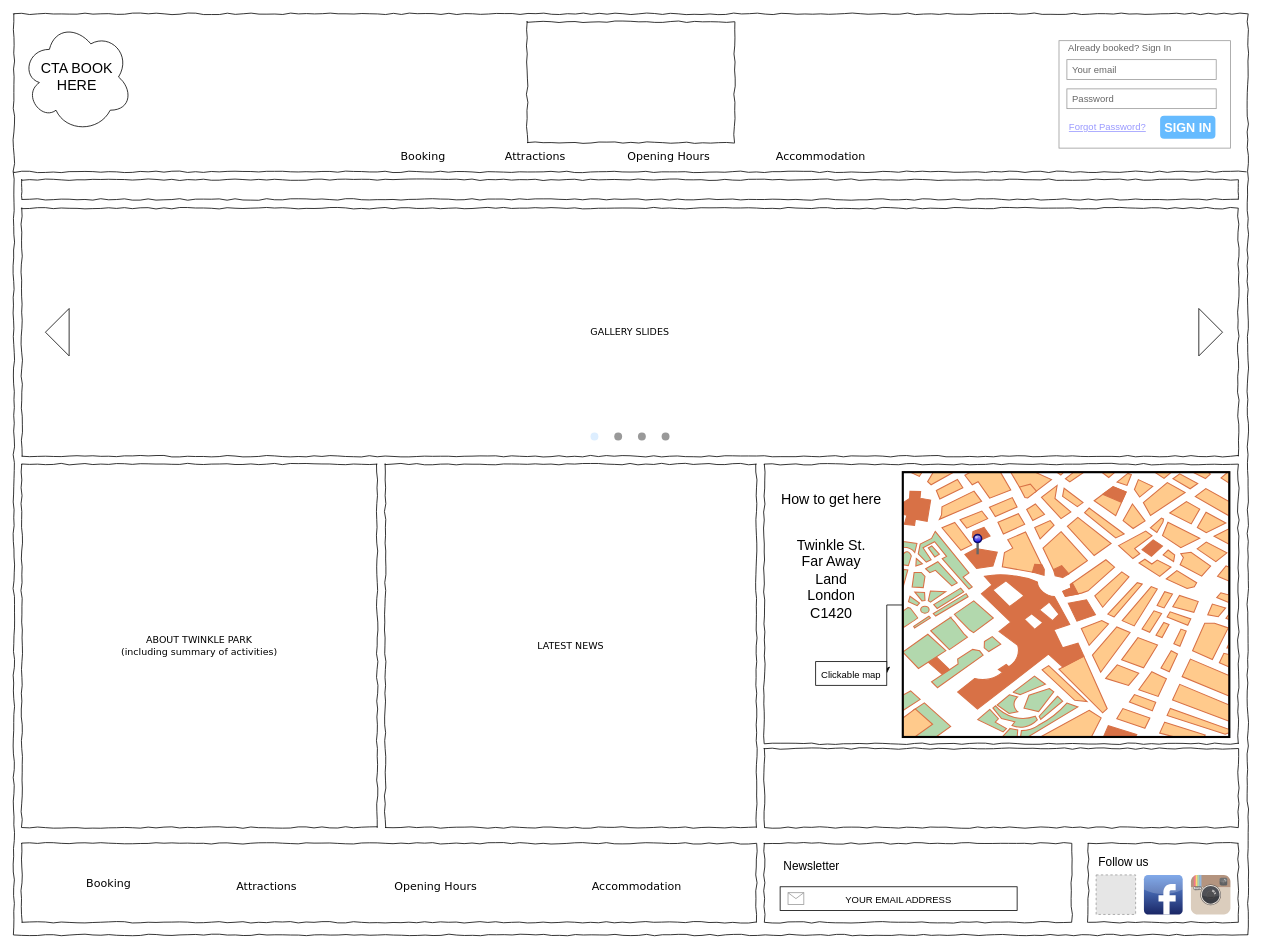
Image size: 1262x949. Some labels were removed from this diagram. Grey dashed boxes stand in for pictures. The centre of each missing label's shape, as x and y in pixels:
"COVID-19 Guidelines" belongs at (629,189).
"LOGO" belongs at (630,82).
"SERVICES PROVIDED: ATM, MEDICAL ETC." belongs at (1001,788).
